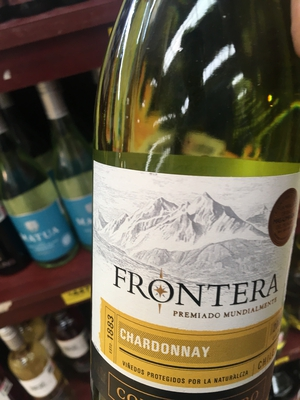frontera chardonnay: (78, 5, 295, 400)
